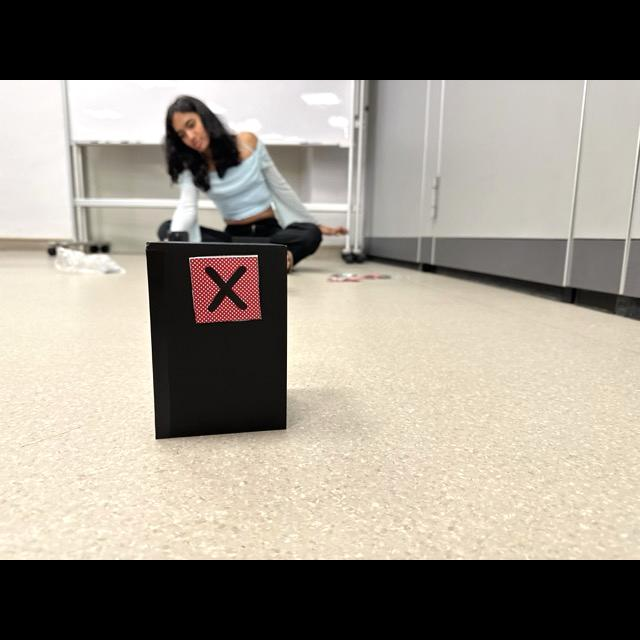X: (204, 266, 246, 311)
